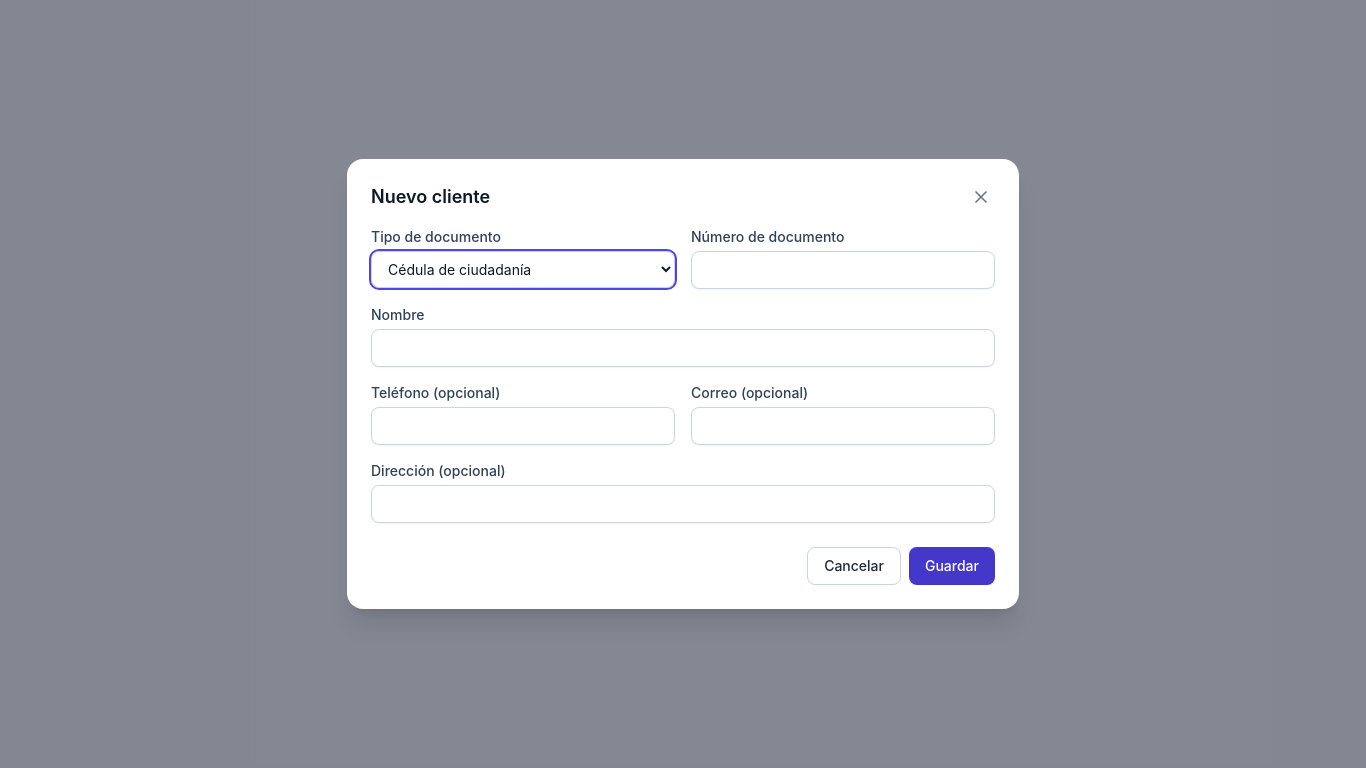
Test: CustomerFormModal › shows a duplicated document next to the field
This screenshot has width=1366, height=768.
Type "1020304050" into the field labelled "Número de documento" at (843, 270), box 691,251 -> 995,289
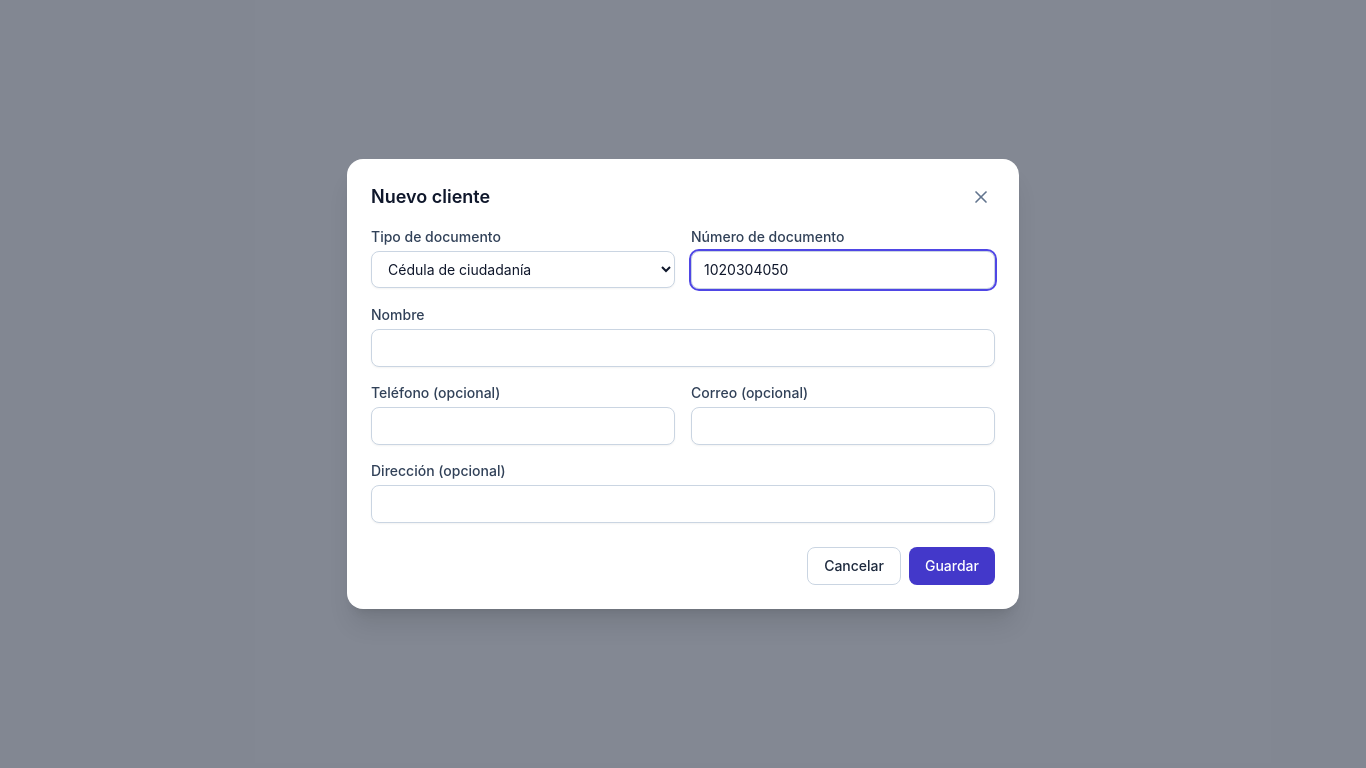
Type "Copia" into the field labelled "Nombre" at (683, 348), box 371,329 -> 995,367
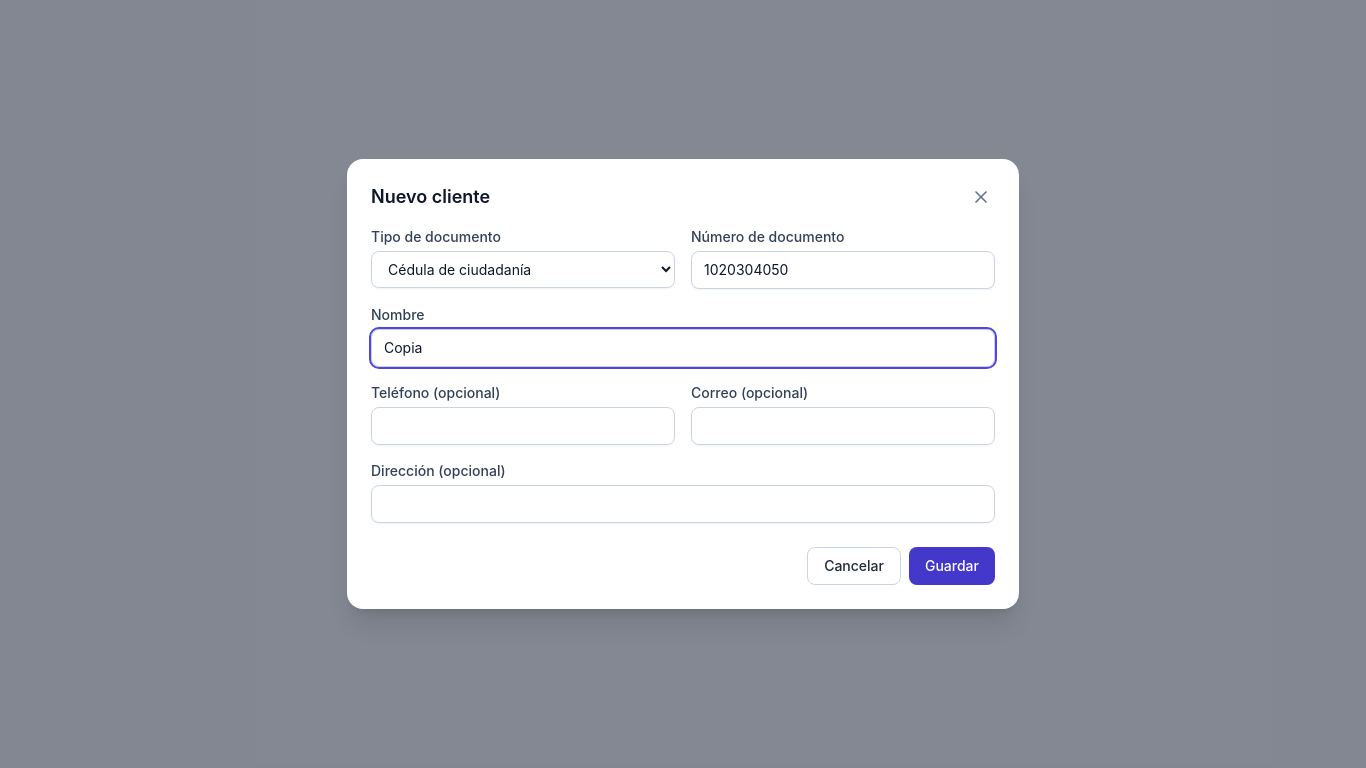
Click the button "Guardar" at (952, 566), box 909,547 -> 995,585
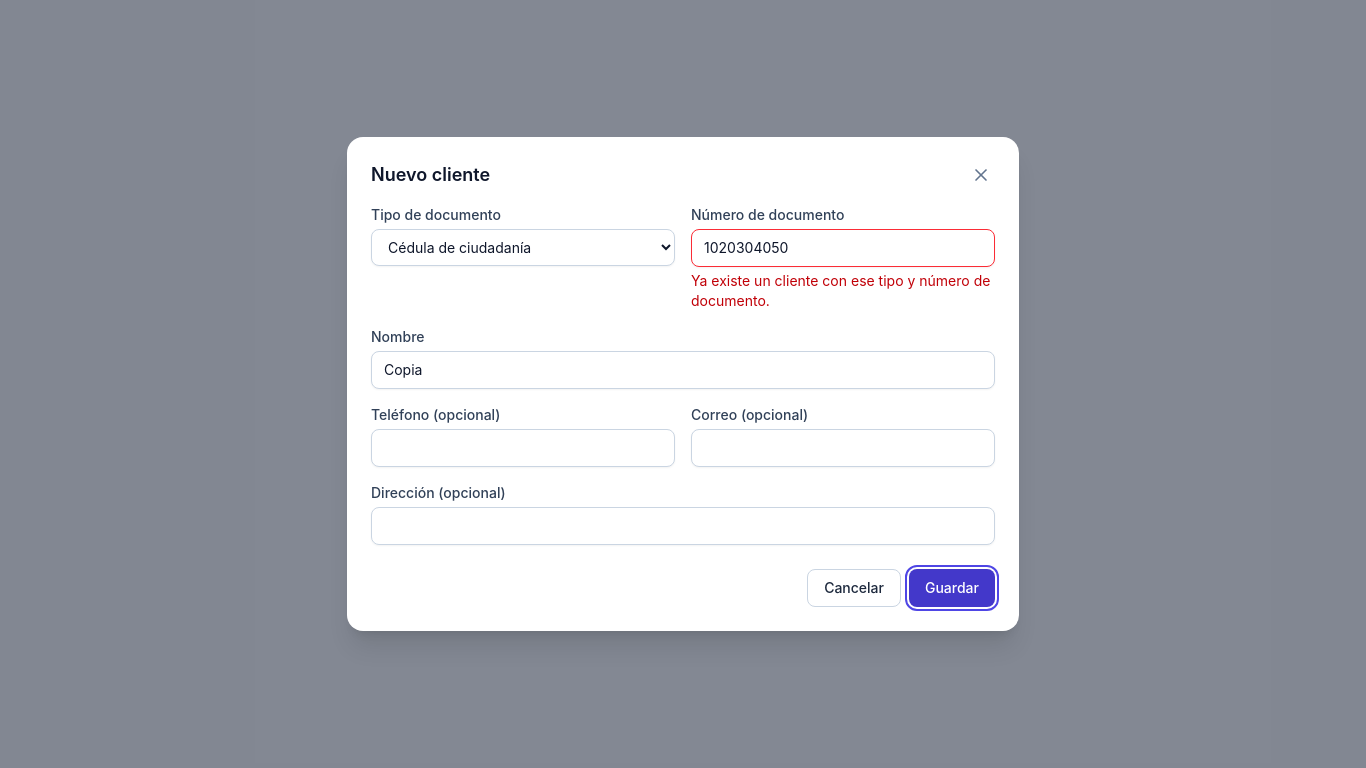
Now the text "Ya existe un cliente con ese tipo y número de documento." is shown, box 691,271 -> 995,311
